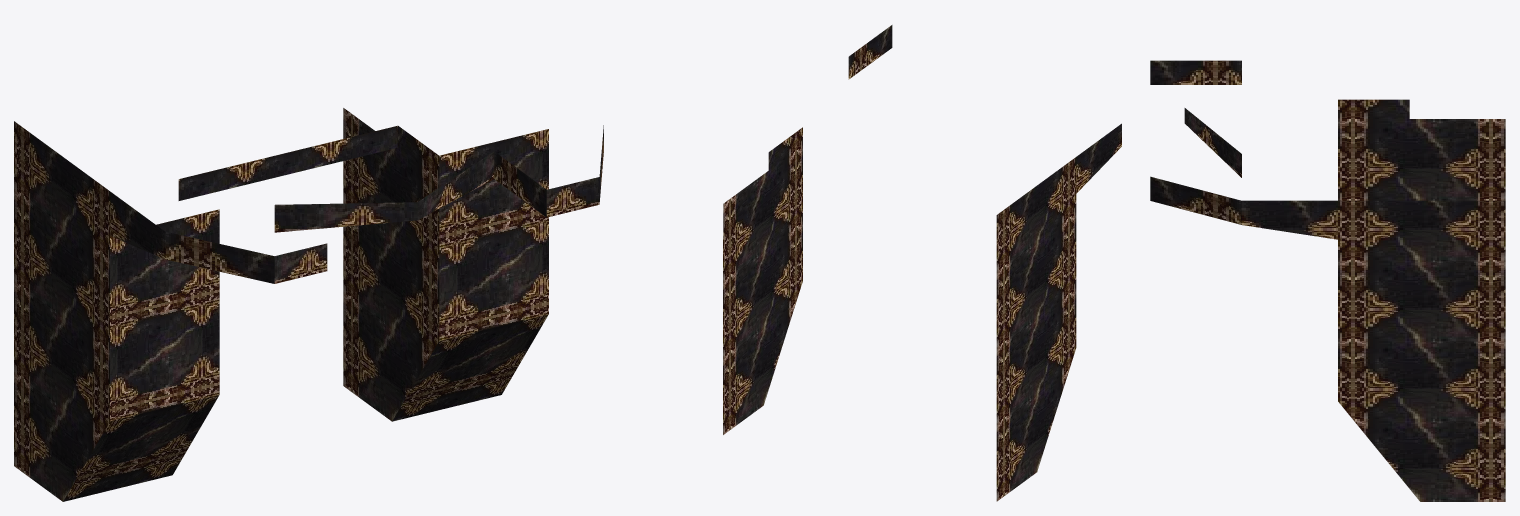
The picture shows the model from 3 angles, left to right: view 1: azimuth 30°, elevation 25°; view 2: azimuth 150°, elevation 25°; view 3: azimuth 270°, elevation 25°; orthographic projection. The views are drawn at different scales.
Parts seen in each view (by area): view 1: model_Object22; view 2: model_Object22; view 3: model_Object22.
Part boxes in pixels (bbox=[...]): model_Object22: bbox=[14, 108, 603, 501]; model_Object22: bbox=[723, 25, 1121, 501]; model_Object22: bbox=[1150, 60, 1505, 501].
Size of the model in its own units: 4 by 3.01 by 3.22.
1 material, 1 textured.
